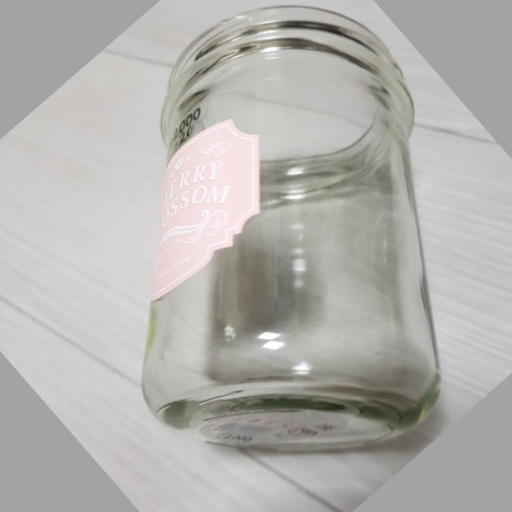Glass_5: (141, 6, 441, 455)
